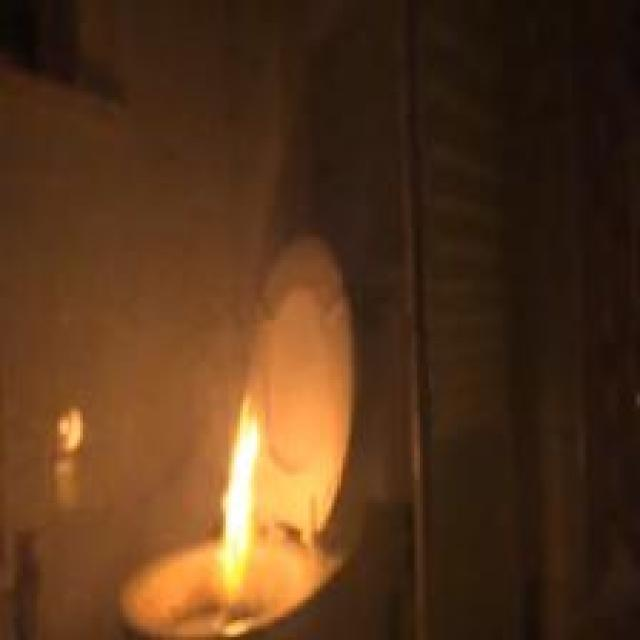Fire: (214, 410, 268, 604)
